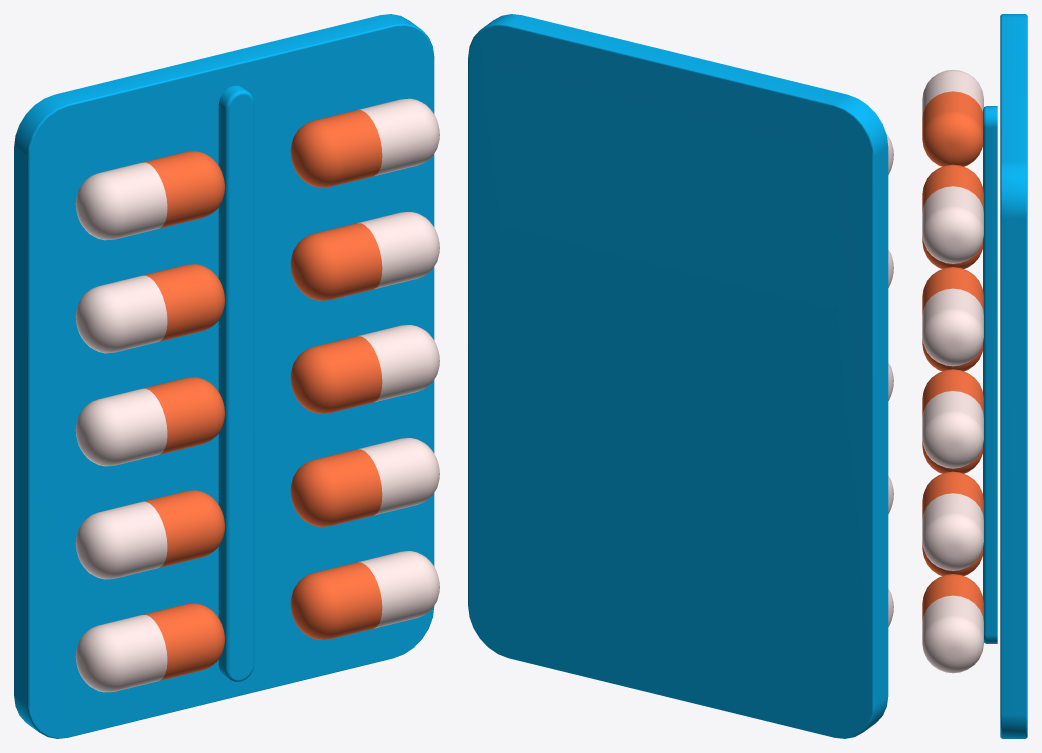
Rendered from Store_15_Pill_Pack_2.glb.
3 renders of one model, left to right at view 1: azimuth 30°, elevation 25°; view 2: azimuth 150°, elevation 25°; view 3: azimuth 270°, elevation 25°, orthographic. The views are drawn at different scales.
Visible parts, largest first — view 1: Store_15_Pill_Pack_2; view 2: Store_15_Pill_Pack_2; view 3: Store_15_Pill_Pack_2.
Boxes of the visible parts, <box> form: Store_15_Pill_Pack_2: <box>14,14,439,738</box>; Store_15_Pill_Pack_2: <box>468,14,893,738</box>; Store_15_Pill_Pack_2: <box>922,14,1027,738</box>.
Size of the model in its own units: 2.32 by 3.44 by 0.5744.
Materials: 1 (1 with a texture image).
